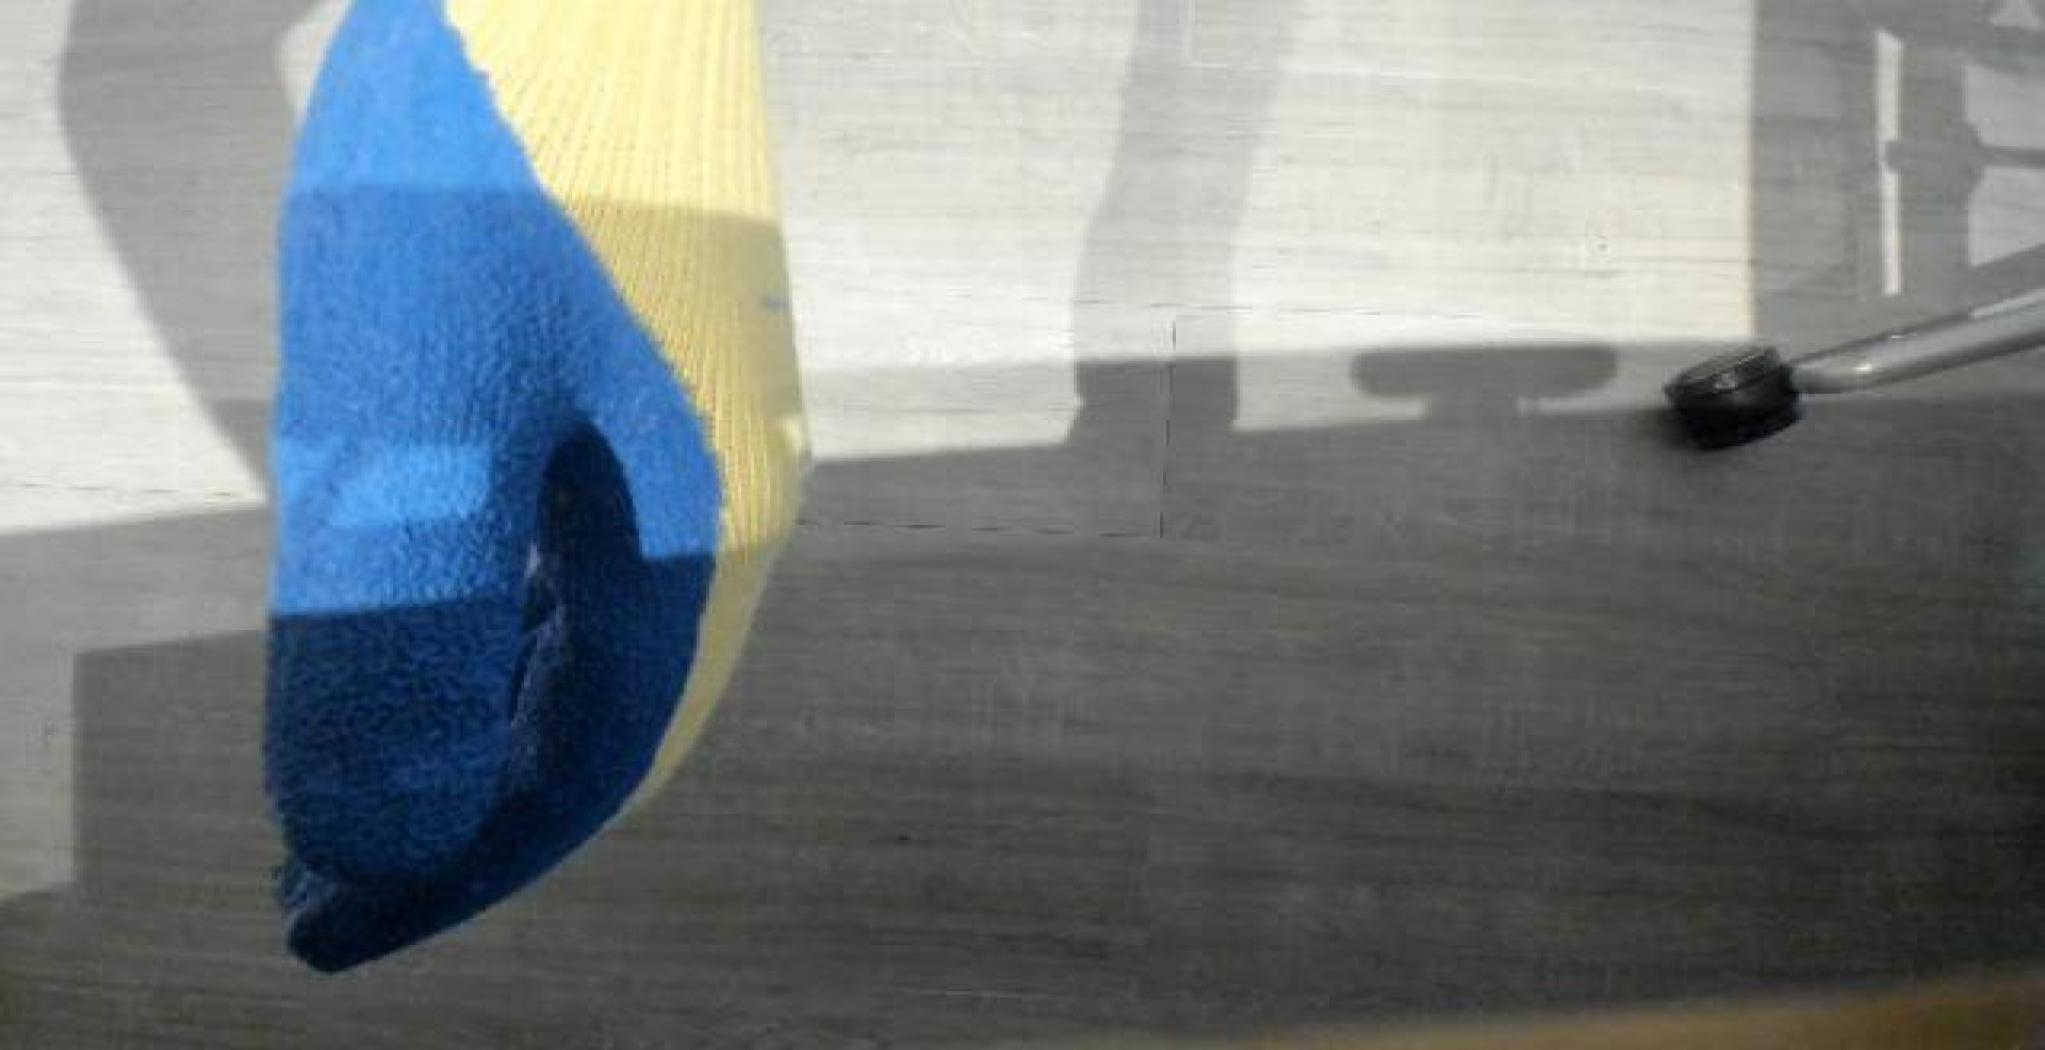gloved: (119, 0, 873, 924)
